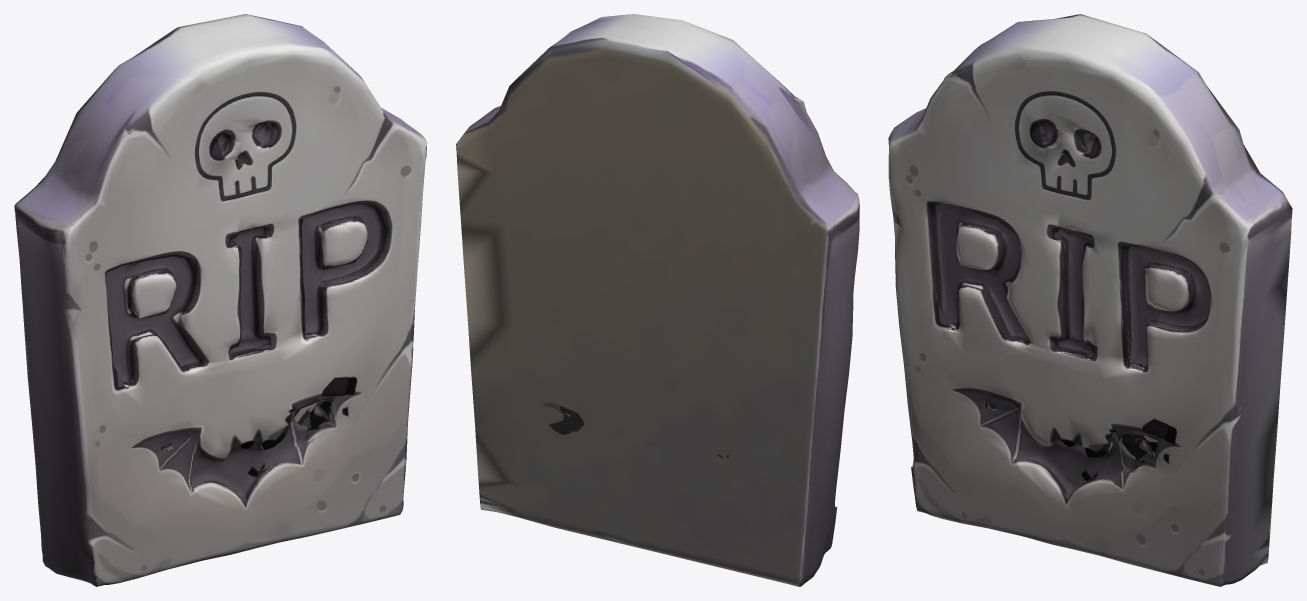
Rendered from Meshy_AI_Gravestone_Icon_0111143920_texture.fbx.
3 renders of one model, left to right at view 1: azimuth 30°, elevation 25°; view 2: azimuth 150°, elevation 25°; view 3: azimuth 330°, elevation 25°, orthographic.
Parts seen in each view (by area): view 1: Mesh0; view 2: Mesh0; view 3: Mesh0.
Boxes of the visible parts, x1,y1,x2,y2 form: Mesh0: (14, 14, 427, 586); Mesh0: (456, 14, 859, 586); Mesh0: (888, 14, 1292, 586).
Bounding box in the file's own units: 149 × 191 × 28.99.
1 material, 1 textured.
